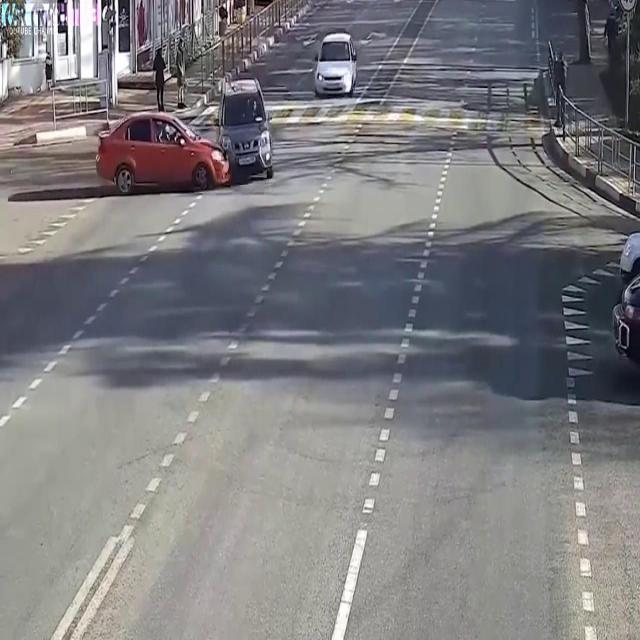accident: (96, 80, 276, 194)
